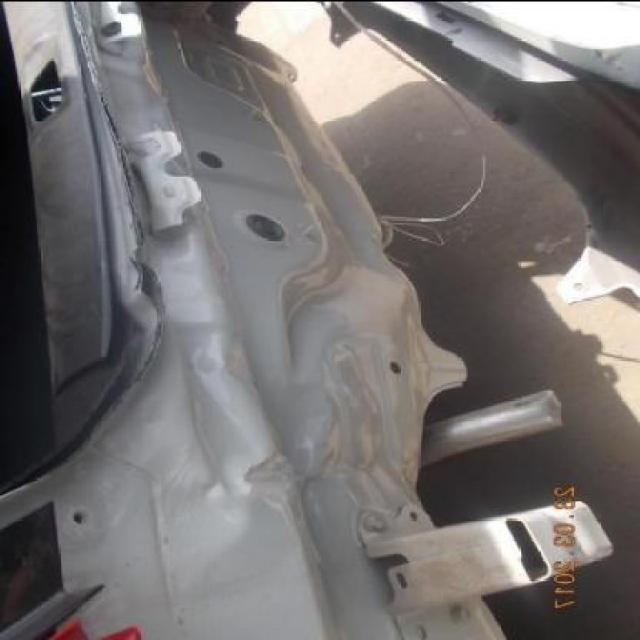damage: (95, 0, 554, 640)
